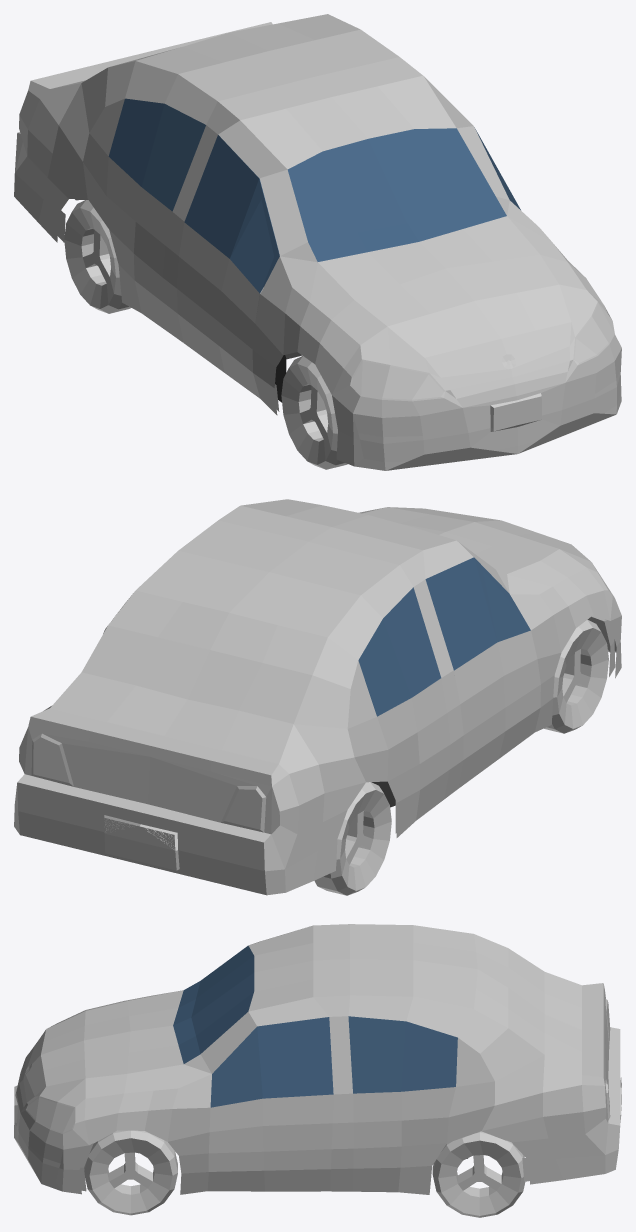
The model's file is NormalCar.fbx.
3 renders of one model, top to bottom at view 1: azimuth 30°, elevation 25°; view 2: azimuth 150°, elevation 25°; view 3: azimuth 270°, elevation 25°, orthographic. The views are drawn at different scales.
Visible parts, largest first — view 1: body, Door, Tire; view 2: body, Door, Tire, body.001; view 3: body, Tire, body.001.
Boxes of the visible parts, x1,y1,x2,y2 form: body: [14, 14, 621, 470]; Door: [176, 135, 279, 398]; Tire: [64, 200, 347, 469]; body: [14, 499, 621, 895]; Door: [425, 557, 540, 788]; Tire: [314, 620, 608, 895]; body.001: [336, 615, 615, 861]; body: [14, 924, 621, 1194]; Tire: [84, 1130, 525, 1217]; body.001: [79, 1130, 529, 1191].
Bounding box in the file's own units: 106 × 91.1 × 241.
